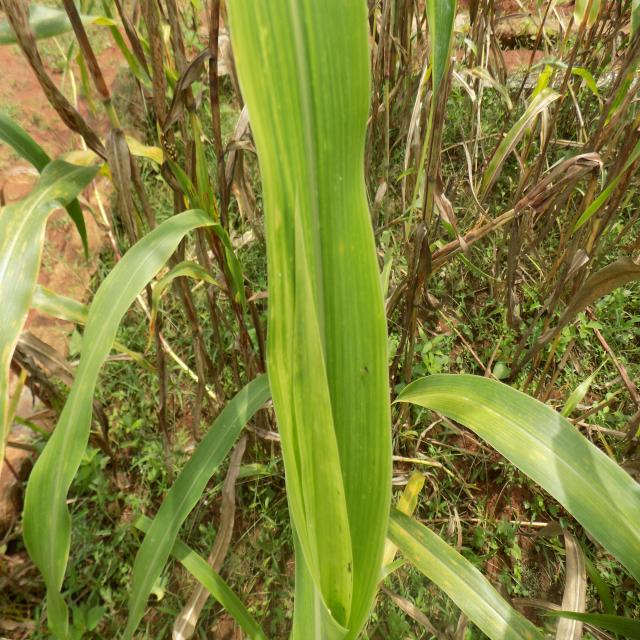millet_healthy: (214, 0, 398, 640), (20, 204, 246, 640), (396, 353, 640, 582)
